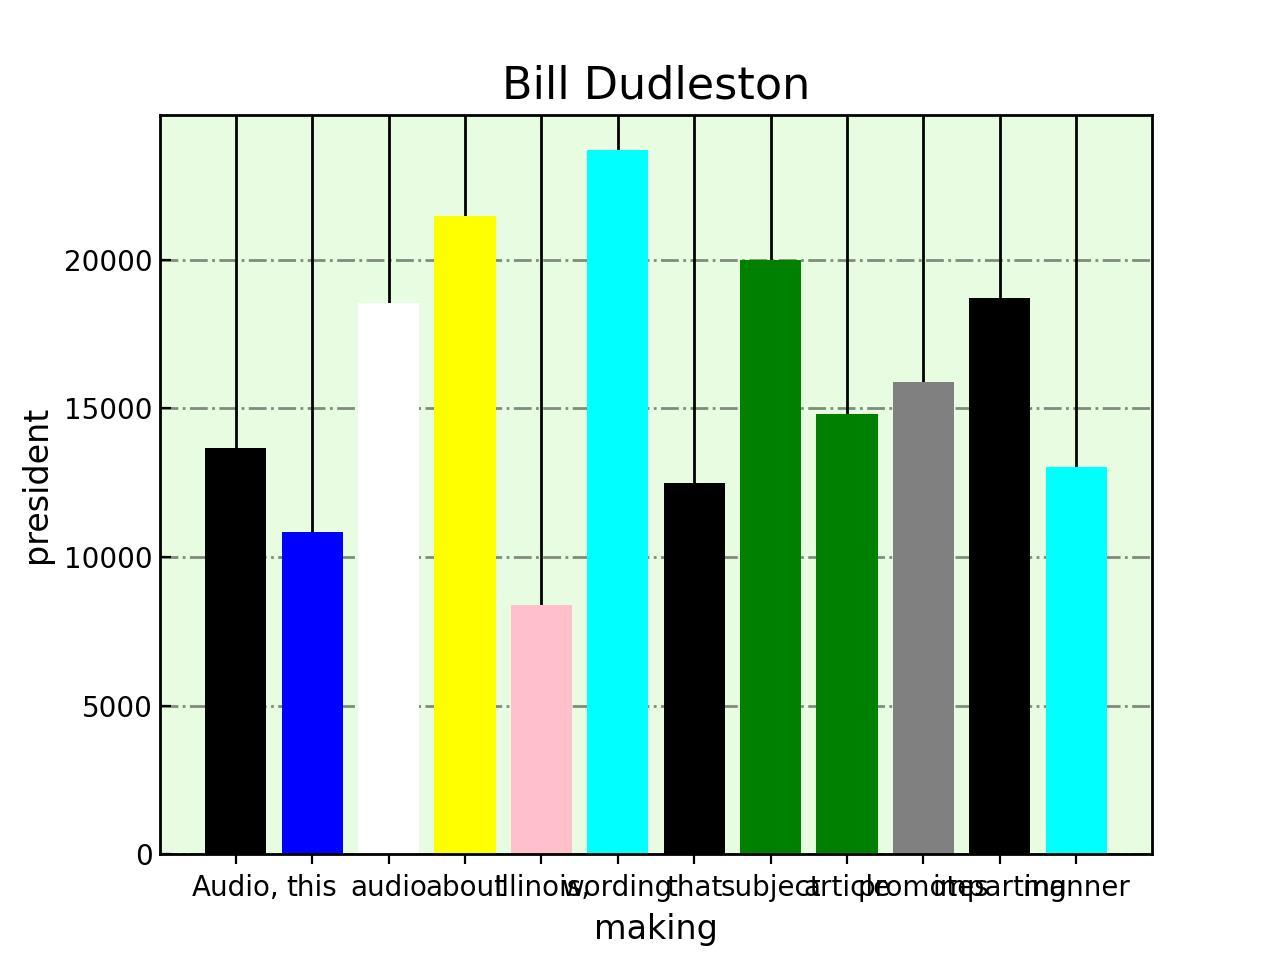axis: (20, 249, 153, 872)
rectangle: (588, 151, 648, 854), (434, 217, 496, 854), (740, 260, 801, 854), (358, 303, 419, 854), (970, 298, 1030, 854), (893, 382, 954, 854), (816, 414, 878, 854), (205, 448, 266, 854), (1046, 468, 1107, 854), (664, 483, 724, 854), (282, 532, 342, 854), (511, 605, 572, 854)
